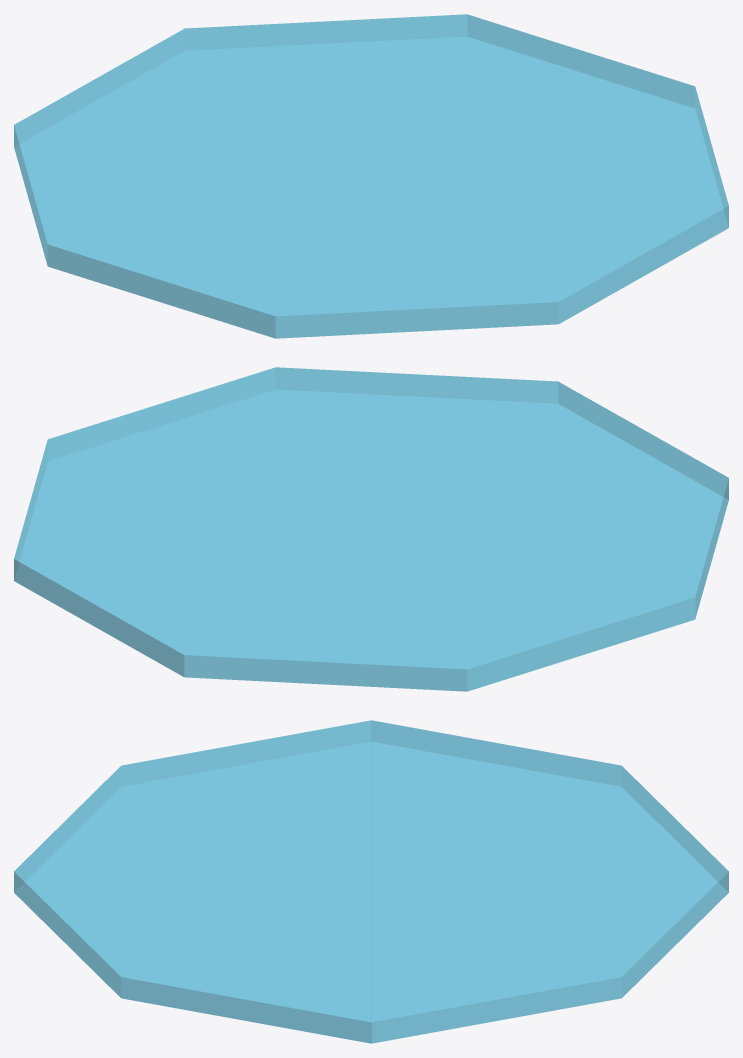
File: Water.fbx
3 views of the same model, one above another, from view 1: azimuth 30°, elevation 25°; view 2: azimuth 150°, elevation 25°; view 3: azimuth 270°, elevation 25° (orthographic). The views are drawn at different scales.
Visible parts, largest first — view 1: Water; view 2: Water; view 3: Water.
Boxes of the visible parts, bbox=[...] form: Water: bbox=[14, 14, 728, 338]; Water: bbox=[14, 367, 728, 691]; Water: bbox=[14, 720, 728, 1043].
Bounding box in the file's own units: 197 × 6.48 × 197.
